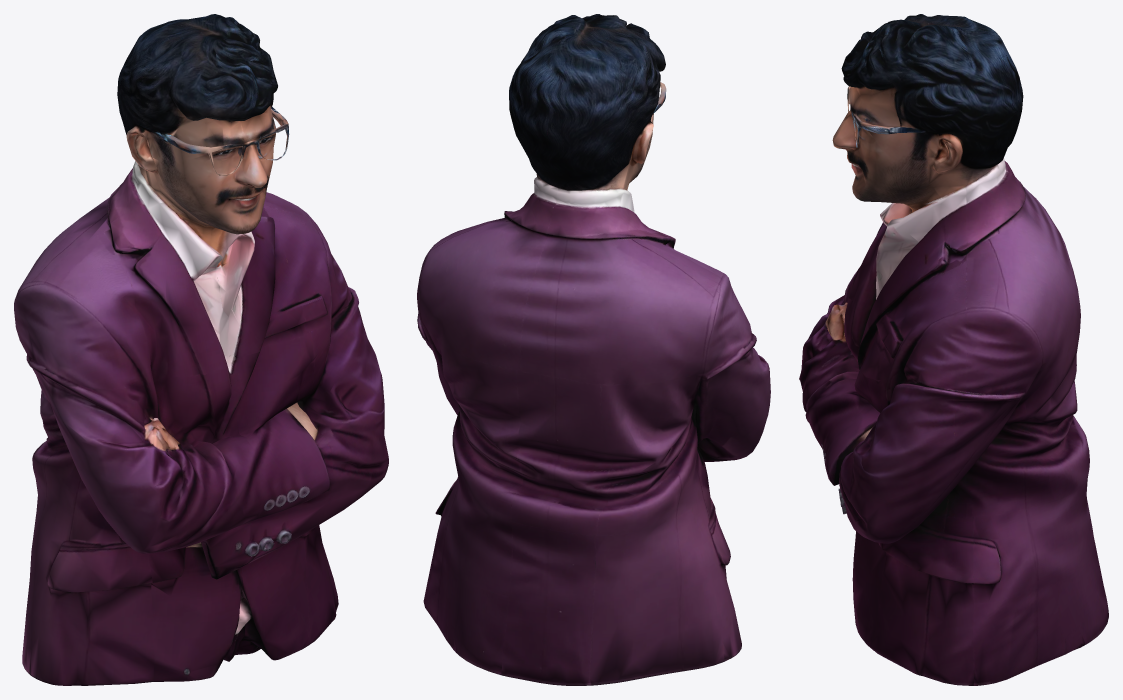
Rendered from hero.glb.
3 renders of one model, left to right at view 1: azimuth 30°, elevation 25°; view 2: azimuth 150°, elevation 25°; view 3: azimuth 270°, elevation 25°, orthographic. The views are drawn at different scales.
Parts seen in each view (by area): view 1: tmp0f7enquwobj; view 2: tmp0f7enquwobj; view 3: tmp0f7enquwobj.
Part boxes in pixels (x1,y1,x2,y2): tmp0f7enquwobj: (14,14,388,685); tmp0f7enquwobj: (417,14,770,685); tmp0f7enquwobj: (799,14,1108,685).
Size of the model in its own units: 0.5552 by 0.9995 by 0.4685.
Materials: 1 (1 with a texture image).
